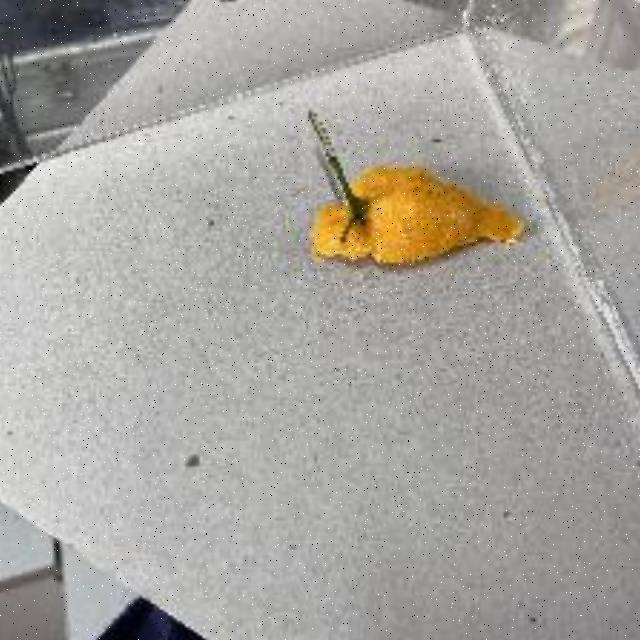orange-peel: (306, 158, 526, 268)
